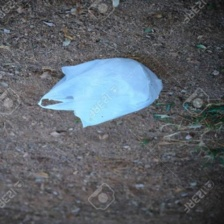plastic_bag: (35, 52, 166, 130)
